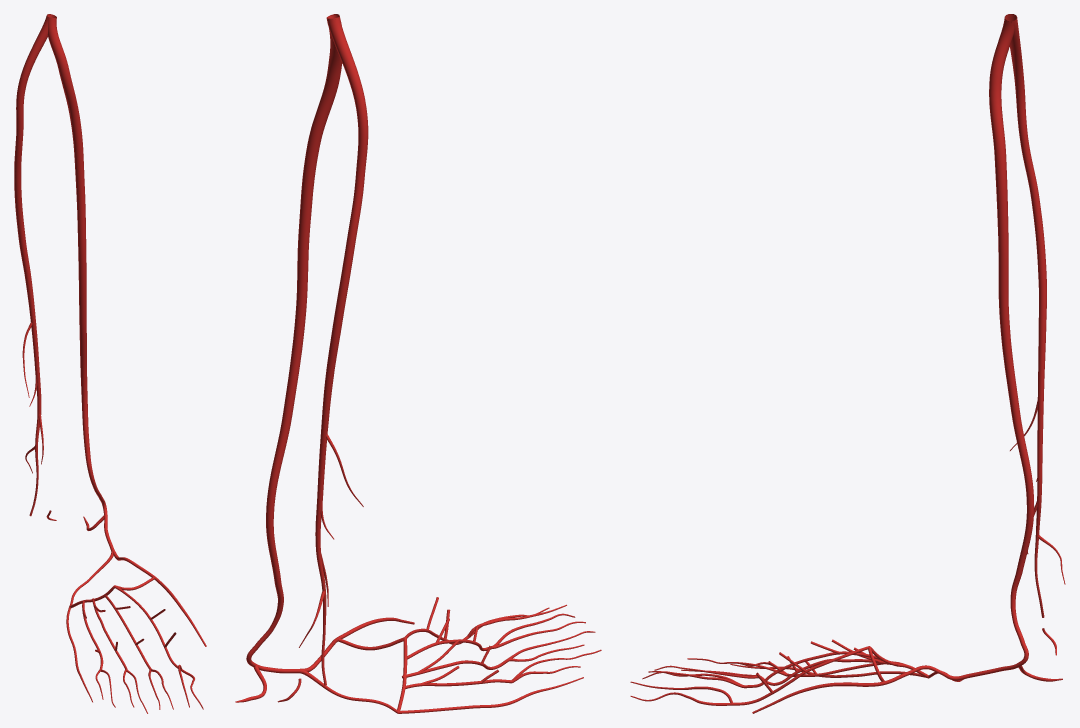
The model's file is circulatorio-posterior-tibial-artery-r.glb.
The picture shows the model from 3 angles, left to right: view 1: azimuth 30°, elevation 25°; view 2: azimuth 150°, elevation 25°; view 3: azimuth 270°, elevation 25°; orthographic projection. The views are drawn at different scales.
Visible parts, largest first — view 1: Posterior tibial artery.r, Fibular artery.r, Proper plantar digital arteries.r, Plantar metatarsal arteries.r; view 2: Posterior tibial artery.r, Fibular artery.r, Proper plantar digital arteries.r, Plantar metatarsal arteries.r, Perforating branches of plantar metatarsal arteries.r, Plantar arch.r; view 3: Posterior tibial artery.r, Fibular artery.r, Proper plantar digital arteries.r, Plantar metatarsal arteries.r.
Boxes of the visible parts, x1,y1,x2,y2 form: Posterior tibial artery.r: (47, 15, 113, 549); Fibular artery.r: (14, 14, 56, 516); Proper plantar digital arteries.r: (66, 607, 203, 713); Plantar metatarsal arteries.r: (82, 585, 165, 651); Posterior tibial artery.r: (246, 14, 342, 673); Fibular artery.r: (299, 15, 368, 685); Proper plantar digital arteries.r: (398, 604, 601, 713); Plantar metatarsal arteries.r: (402, 628, 482, 688); Perforating branches of plantar metatarsal arteries.r: (418, 597, 498, 683); Plantar arch.r: (338, 637, 407, 711); Posterior tibial artery.r: (968, 14, 1034, 677); Fibular artery.r: (1005, 14, 1065, 617); Proper plantar digital arteries.r: (630, 658, 926, 705); Plantar metatarsal arteries.r: (772, 646, 904, 693).
Bounding box in the file's own units: 0.091 × 0.367 × 0.2086.
